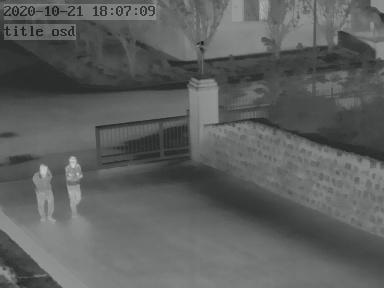person: (64, 151, 86, 217), (34, 159, 55, 220)
